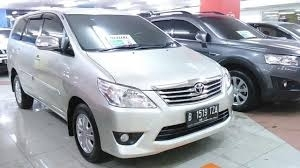plate: (187, 105, 221, 125)
